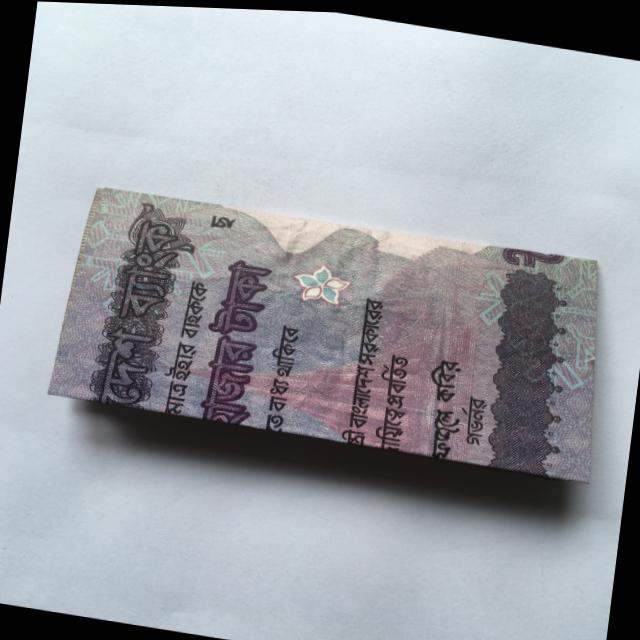Taka: (47, 162, 622, 489)
